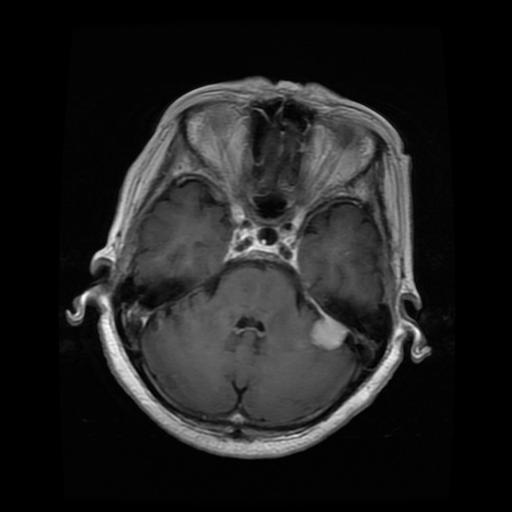Menigiomia_tumour: (307, 294, 348, 350)
